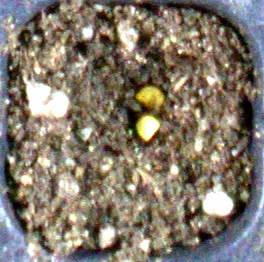pepper seed: (54, 43, 216, 186), (52, 28, 217, 141)
